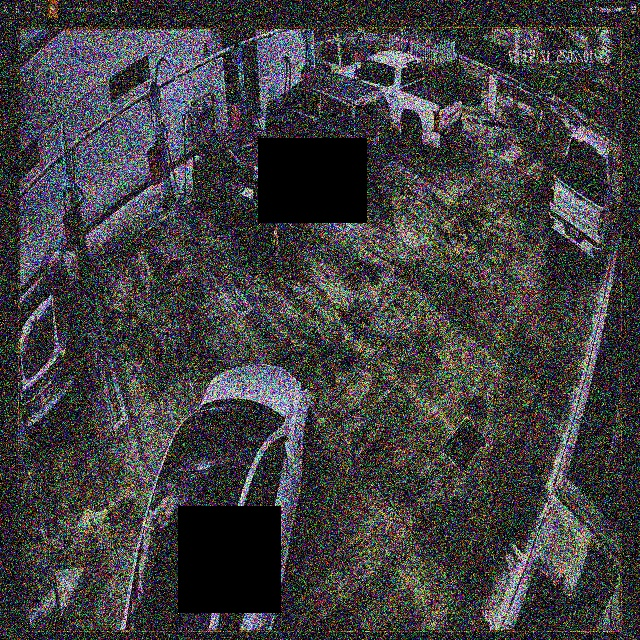Car: (119, 357, 317, 631), (265, 71, 394, 195), (195, 124, 300, 257), (339, 49, 461, 156)
